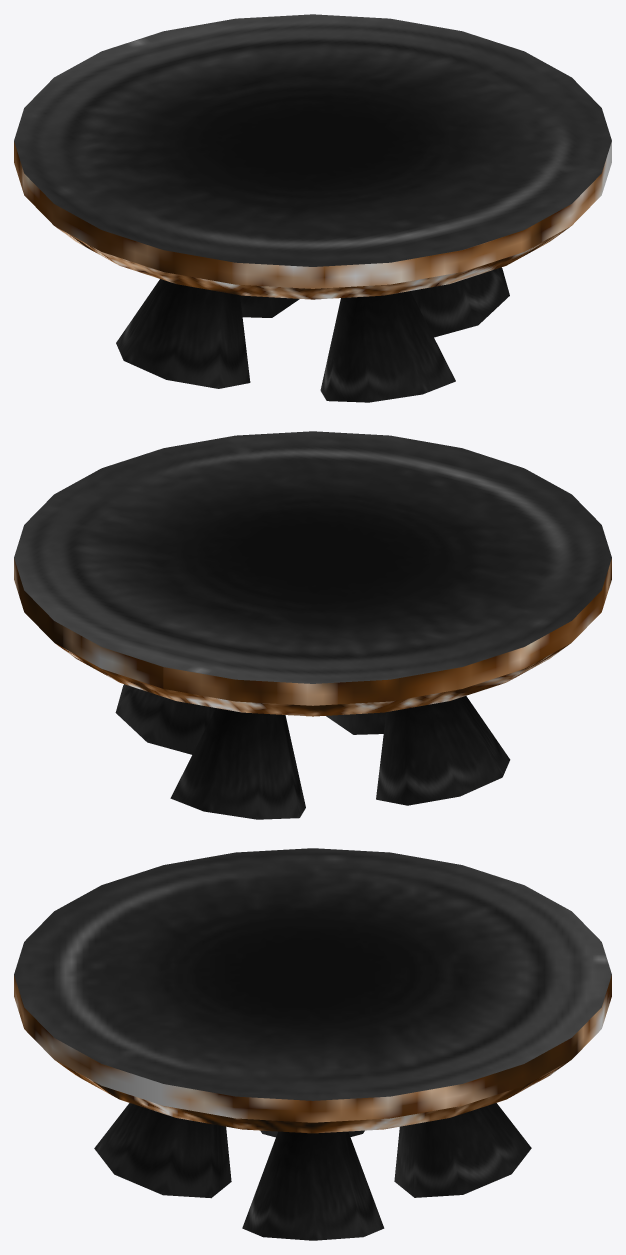
File: engine.DAE
3 renders of one model, top to bottom at view 1: azimuth 30°, elevation 25°; view 2: azimuth 150°, elevation 25°; view 3: azimuth 270°, elevation 25°, orthographic.
Visible parts, largest first — view 1: Cylinder01-Pivot, Object02-Pivot, Object01-Pivot, Object03-Pivot, Object04-Pivot; view 2: Cylinder01-Pivot, Object04-Pivot, Object01-Pivot, Object03-Pivot, Object02-Pivot; view 3: Cylinder01-Pivot, Object03-Pivot, Object02-Pivot, Object04-Pivot.
Boxes of the visible parts, x1,y1,x2,y2 form: Cylinder01-Pivot: (14,14,611,299); Object02-Pivot: (320,291,455,402); Object01-Pivot: (116,279,250,388); Object03-Pivot: (410,267,509,337); Object04-Pivot: (240,295,299,317); Cylinder01-Pivot: (14,431,611,716); Object04-Pivot: (170,708,305,819); Object01-Pivot: (376,696,510,805); Object03-Pivot: (115,684,215,754); Object02-Pivot: (326,712,386,734); Cylinder01-Pivot: (14,848,611,1133); Object03-Pivot: (242,1131,384,1240); Object02-Pivot: (94,1103,231,1198); Object04-Pivot: (394,1103,531,1197).
Size of what is drawn, in the model's own units: 0.5217 by 0.1994 by 0.5217.
